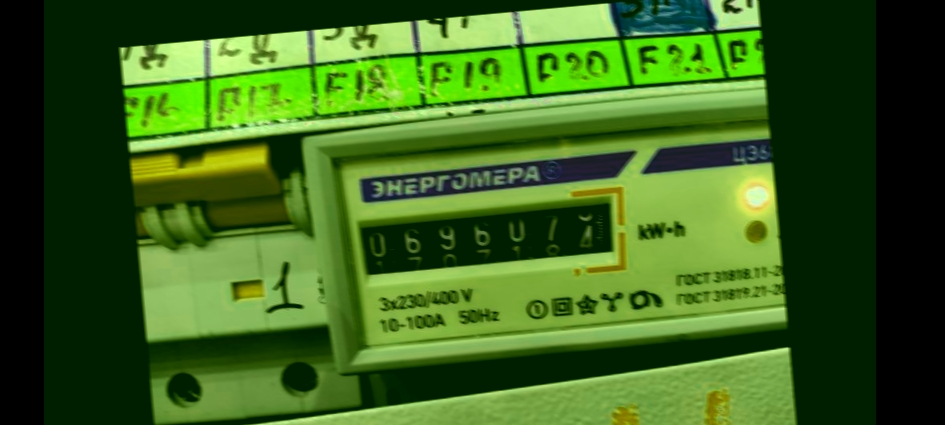0: (366, 225, 388, 257), (506, 209, 528, 241)
4: (574, 219, 596, 249)
6: (400, 221, 424, 253), (471, 215, 493, 244)
7: (541, 207, 561, 239)
9: (437, 219, 457, 249)
screen: (339, 176, 631, 292)
